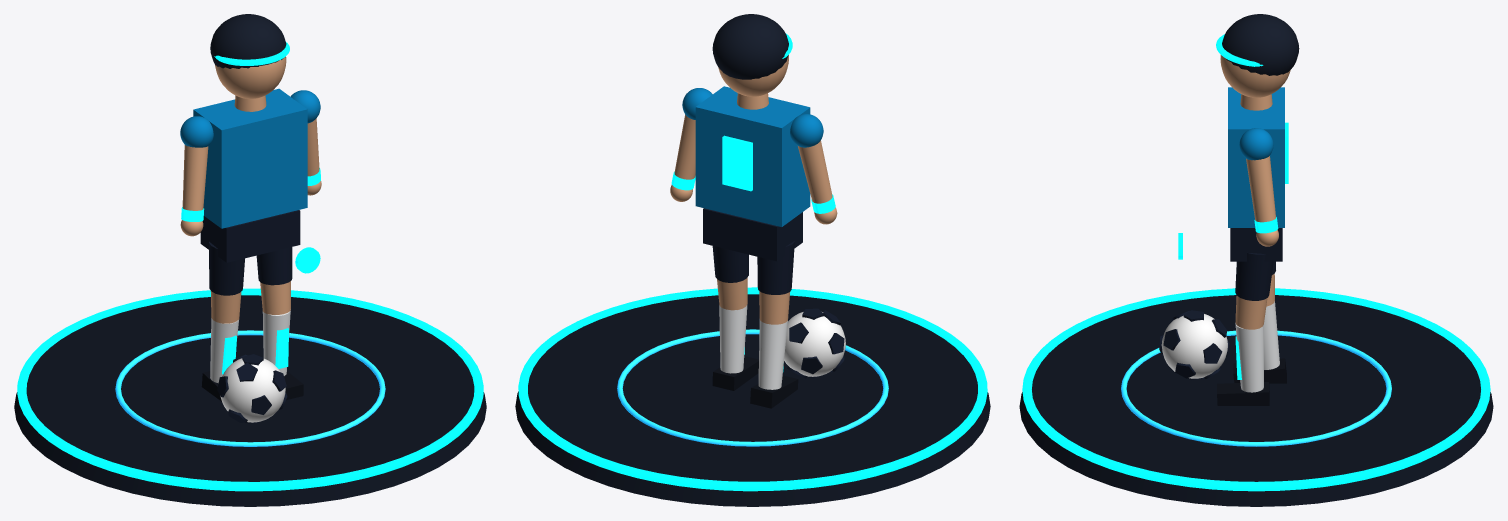
The model's file is striker_ready.glb.
3 renders of one model, left to right at view 1: azimuth 30°, elevation 25°; view 2: azimuth 150°, elevation 25°; view 3: azimuth 270°, elevation 25°, orthographic.
Size of the model in its own units: 0.5 by 0.4526 by 0.5.
